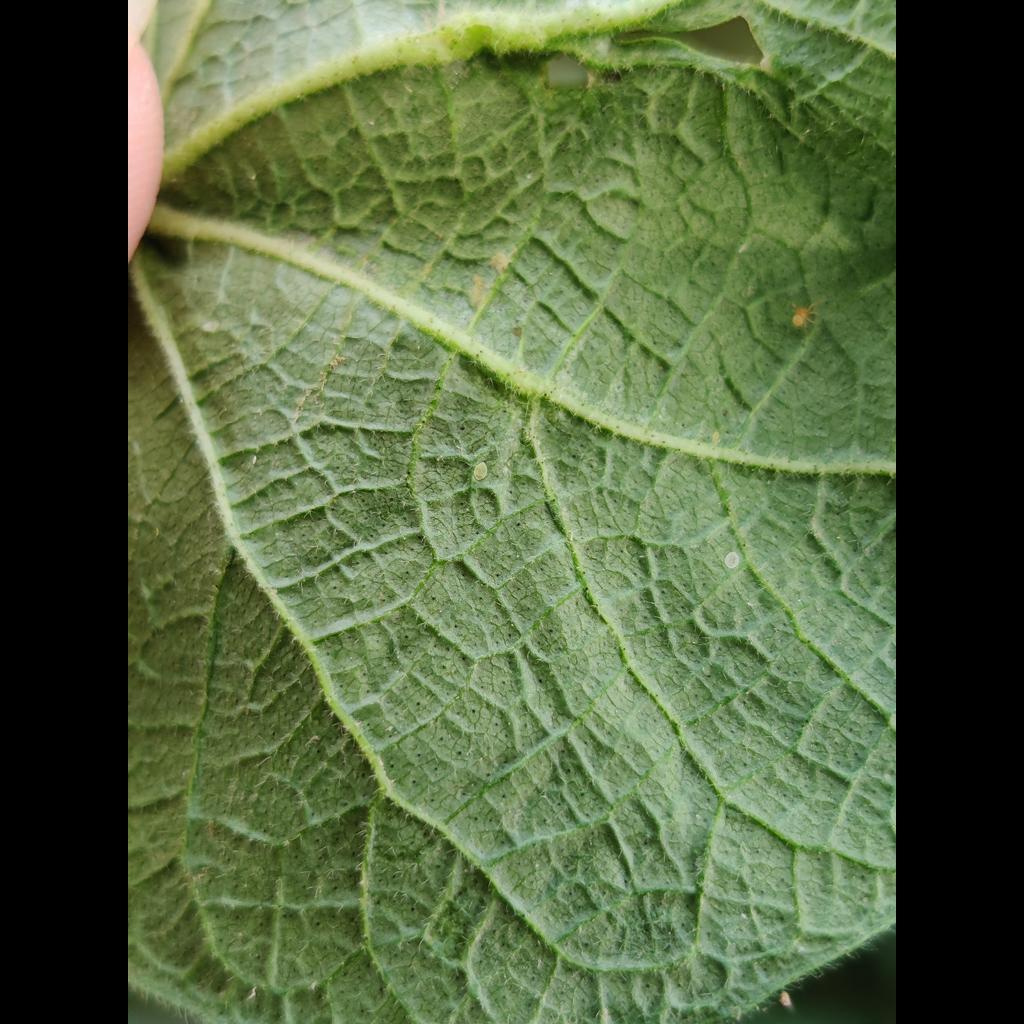nymph: (474, 461, 488, 481), (724, 550, 739, 568), (200, 320, 217, 334)
